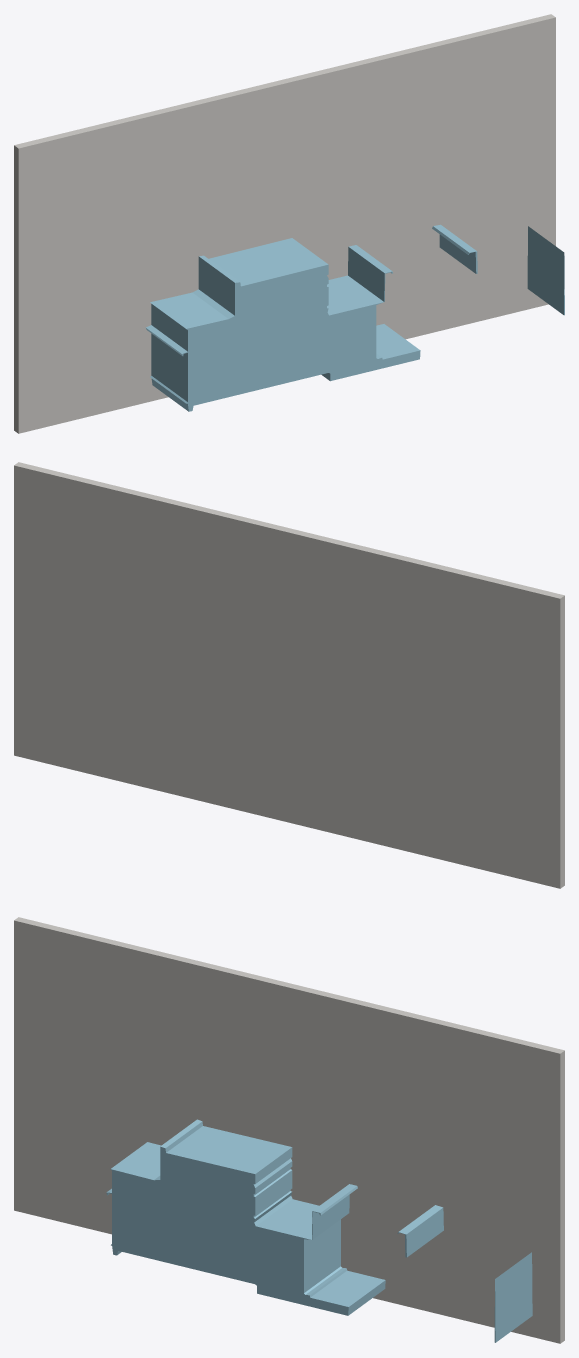
The picture shows the model from 3 angles, top to bottom: view 1: azimuth 30°, elevation 25°; view 2: azimuth 150°, elevation 25°; view 3: azimuth 330°, elevation 25°; orthographic projection.
Parts seen in each view (by area): view 1: world; view 2: world; view 3: world.
Boxes of the visible parts, bbox=[...] form: world: bbox=[14, 14, 564, 433]; world: bbox=[14, 462, 564, 888]; world: bbox=[14, 917, 564, 1343].
Bounding box in the file's own units: 10.23 × 5.19 × 1.35.
